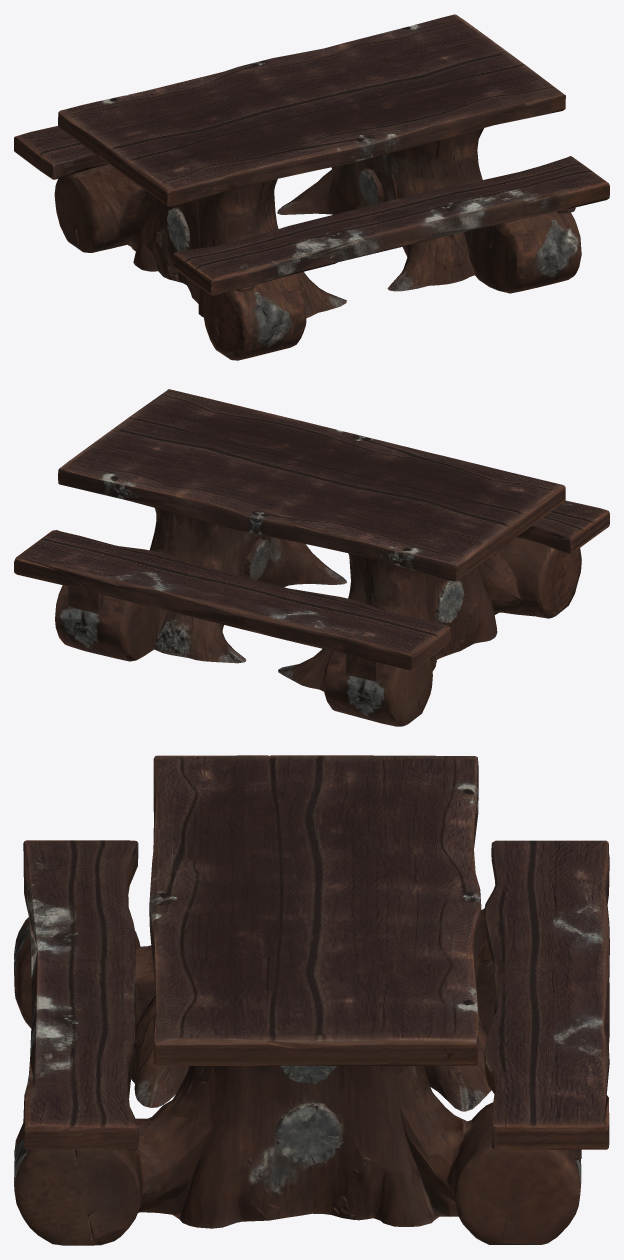
The picture shows the model from 3 angles, top to bottom: view 1: azimuth 30°, elevation 25°; view 2: azimuth 150°, elevation 25°; view 3: azimuth 270°, elevation 25°; orthographic projection. The views are drawn at different scales.
Bounding box in the file's own units: 1.9 × 0.6974 × 1.66.
Materials: 1 (1 with a texture image).
